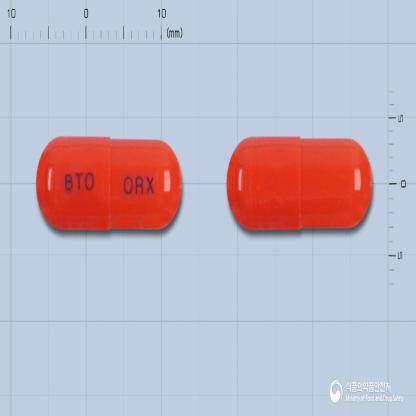pill: (35, 134, 183, 230), (225, 134, 373, 230)
